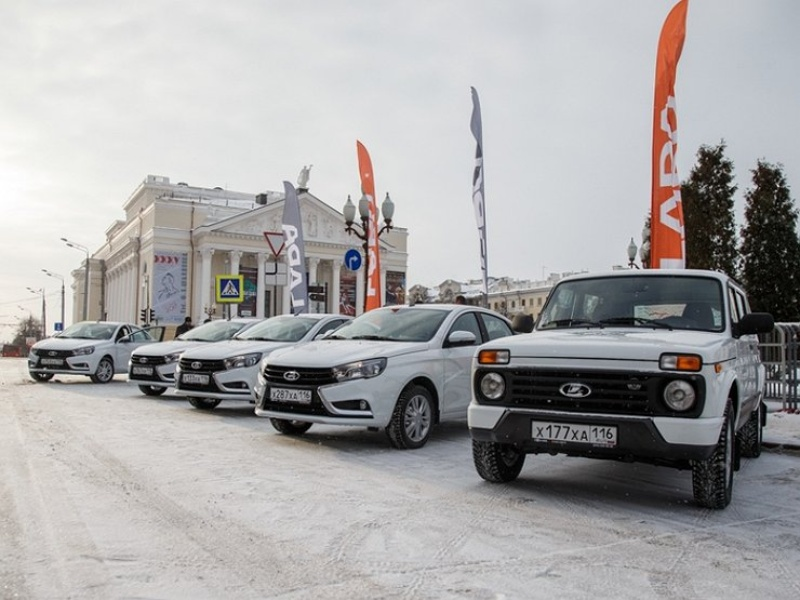car: (467, 269, 774, 507), (254, 303, 514, 449), (172, 313, 356, 411), (126, 320, 264, 394), (27, 321, 166, 385)
person: (175, 317, 194, 339)
plate: (531, 420, 615, 444), (269, 386, 311, 403), (182, 374, 209, 383), (133, 366, 152, 374), (42, 359, 63, 364)
